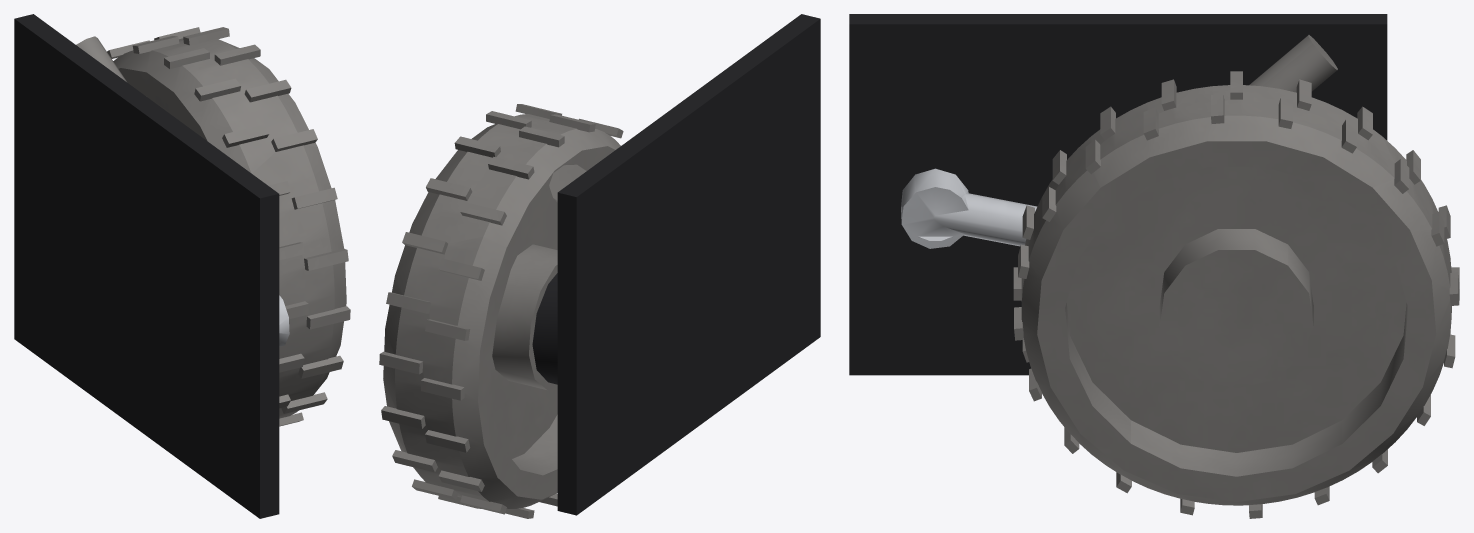
File: rover04_wheel_m.glb
The picture shows the model from 3 angles, left to right: view 1: azimuth 30°, elevation 25°; view 2: azimuth 150°, elevation 25°; view 3: azimuth 270°, elevation 25°; orthographic projection. The views are drawn at different scales.
Parts seen in each view (by area): view 1: mount_plate, wheel, damper, swing_arm; view 2: mount_plate, wheel, hub_motor, damper; view 3: wheel, mount_plate, swing_arm, damper.
Part boxes in pixels (<box>): mount_plate: <box>14,14,279,518</box>; wheel: <box>107,27,350,426</box>; damper: <box>76,36,127,82</box>; swing_arm: <box>279,295,289,346</box>; mount_plate: <box>557,14,820,515</box>; wheel: <box>379,104,623,518</box>; hub_motor: <box>532,273,557,384</box>; damper: <box>549,164,586,202</box>; wheel: <box>1013,71,1459,518</box>; mount_plate: <box>849,14,1387,375</box>; swing_arm: <box>901,168,1037,248</box>; damper: <box>1249,35,1337,92</box>.
Size of the model in its own units: 0.4158 by 0.8758 by 1.16.
Materials: 3 (2 with a texture image).
